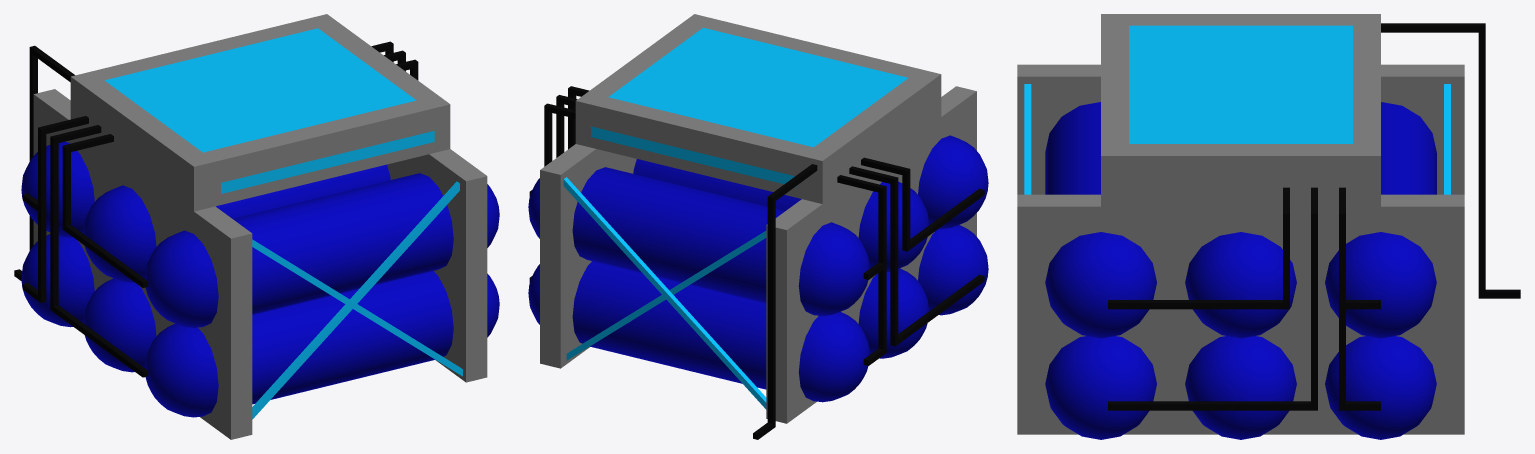
The model's file is compressor.glb.
3 renders of one model, left to right at view 1: azimuth 30°, elevation 25°; view 2: azimuth 150°, elevation 25°; view 3: azimuth 270°, elevation 25°, orthographic. The views are drawn at different scales.
Parts seen in each view (by area): view 1: Asset3DLoader.sceneRoot; view 2: Asset3DLoader.sceneRoot; view 3: Asset3DLoader.sceneRoot.
Boxes of the visible parts, left/top/right/bottom form: Asset3DLoader.sceneRoot: left=14, top=14, right=499, bottom=439; Asset3DLoader.sceneRoot: left=528, top=14, right=988, bottom=439; Asset3DLoader.sceneRoot: left=1017, top=14, right=1520, bottom=439.
Size of the model in its own units: 8.25 by 5.5 by 9.
